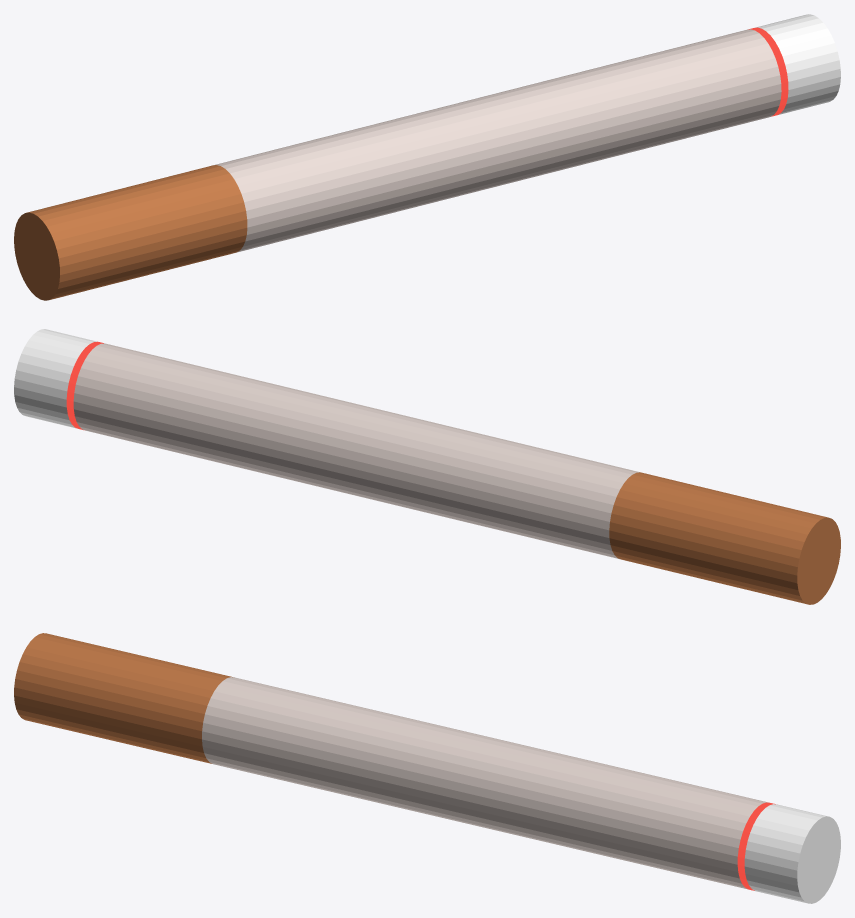
File: 3dmodel6489c3e1a8bb4cigar.glb
3 views of the same model, one above another, from view 1: azimuth 30°, elevation 25°; view 2: azimuth 150°, elevation 25°; view 3: azimuth 330°, elevation 25° (orthographic).
Visible parts, largest first — view 1: Cylinder.002; view 2: Cylinder.002; view 3: Cylinder.002.
Boxes of the visible parts, box(x1,y1,x2,y2) form: Cylinder.002: box(14, 14, 840, 300); Cylinder.002: box(14, 329, 840, 604); Cylinder.002: box(14, 633, 840, 903).
Bounding box in the file's own units: 1.07 × 0.1092 × 0.1184.
